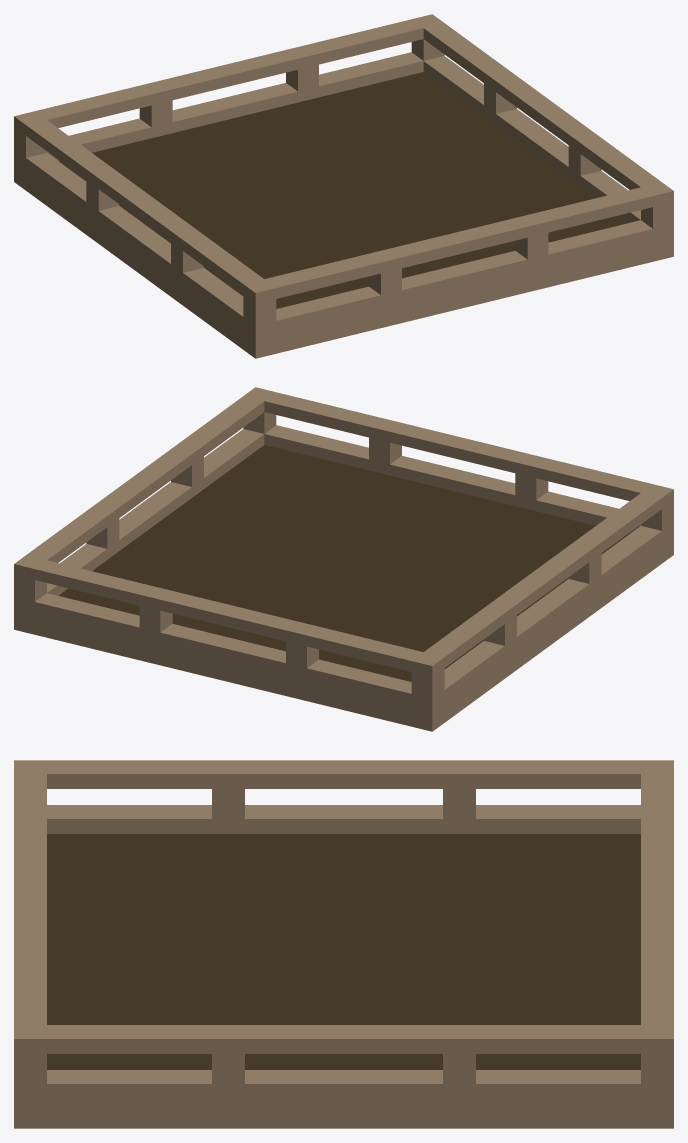
Rendered from fantasy_garden_square_1.fbx.
3 renders of one model, top to bottom at view 1: azimuth 30°, elevation 25°; view 2: azimuth 150°, elevation 25°; view 3: azimuth 270°, elevation 25°, orthographic. The views are drawn at different scales.
Parts seen in each view (by area): view 1: Cube.053; view 2: Cube.053; view 3: Cube.053.
Part boxes in pixels (bbox=[...]): Cube.053: bbox=[14, 14, 673, 358]; Cube.053: bbox=[14, 387, 673, 731]; Cube.053: bbox=[14, 760, 673, 1128].
Size of the model in its own units: 200 by 30 by 200.
